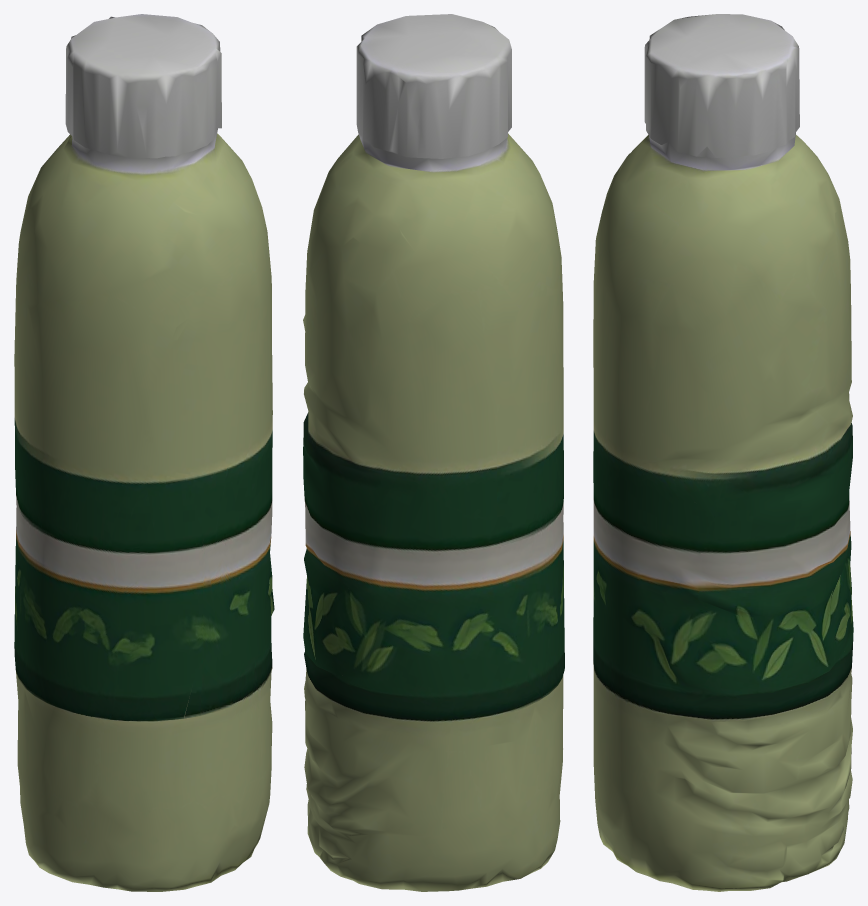
The model's file is bottle.glb.
3 views of the same model, side by side, from view 1: azimuth 30°, elevation 25°; view 2: azimuth 150°, elevation 25°; view 3: azimuth 270°, elevation 25° (orthographic).
Visible parts, largest first — view 1: tripo_node_dcee8d97-ef32-4d6a-974e-ad0a53a41bec; view 2: tripo_node_dcee8d97-ef32-4d6a-974e-ad0a53a41bec; view 3: tripo_node_dcee8d97-ef32-4d6a-974e-ad0a53a41bec.
Part boxes in pixels (box(x1,y1,x2,y2)): tripo_node_dcee8d97-ef32-4d6a-974e-ad0a53a41bec: box(14, 14, 274, 891); tripo_node_dcee8d97-ef32-4d6a-974e-ad0a53a41bec: box(303, 14, 564, 891); tripo_node_dcee8d97-ef32-4d6a-974e-ad0a53a41bec: box(593, 14, 853, 891).
Bounding box in the file's own units: 0.064 × 0.216 × 0.0637.
1 material, 1 textured.
